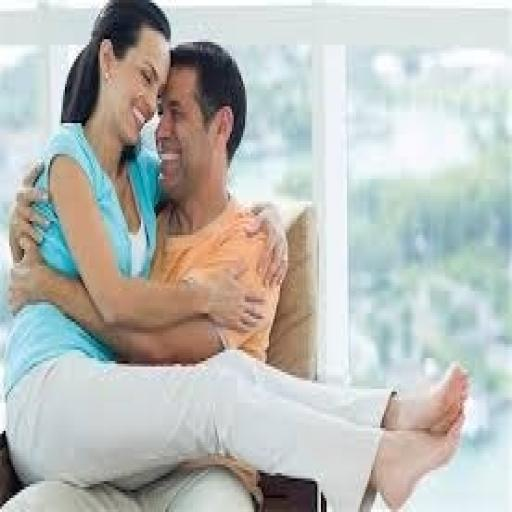hugging: (2, 0, 471, 509)
